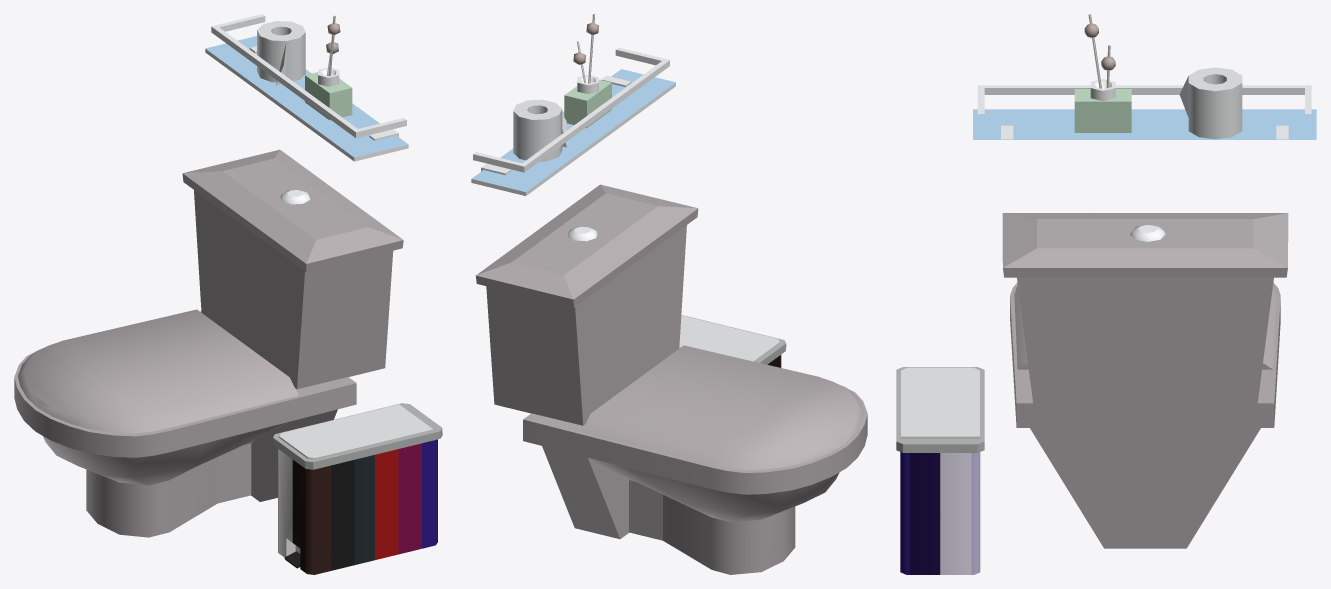
Rendered from M_matong01.FBX.
3 renders of one model, left to right at view 1: azimuth 30°, elevation 25°; view 2: azimuth 150°, elevation 25°; view 3: azimuth 270°, elevation 25°, orthographic. The views are drawn at different scales.
Visible parts, largest first — view 1: M_matong01_01, M_matong01_03, M_matong01_04, M_matong01_02, M_matong01_05; view 2: M_matong01_01, M_matong01_03, M_matong01_04, M_matong01_02, M_matong01_05; view 3: M_matong01_01, M_matong01_03, M_matong01_04, M_matong01_02.
Boxes of the visible parts, x1,y1,x2,y2 form: M_matong01_01: (14, 149, 437, 574); M_matong01_03: (257, 15, 442, 568); M_matong01_04: (205, 36, 408, 157); M_matong01_02: (211, 14, 406, 204); M_matong01_05: (205, 49, 408, 161); M_matong01_01: (475, 184, 867, 574); M_matong01_03: (513, 14, 786, 364); M_matong01_04: (471, 69, 675, 191); M_matong01_02: (473, 47, 669, 241); M_matong01_05: (471, 82, 675, 195); M_matong01_01: (900, 213, 1288, 574); M_matong01_03: (896, 14, 1242, 452); M_matong01_04: (973, 89, 1316, 139); M_matong01_02: (977, 79, 1311, 241).
Size of the model in its own units: 1.21 by 1.79 by 1.25.
